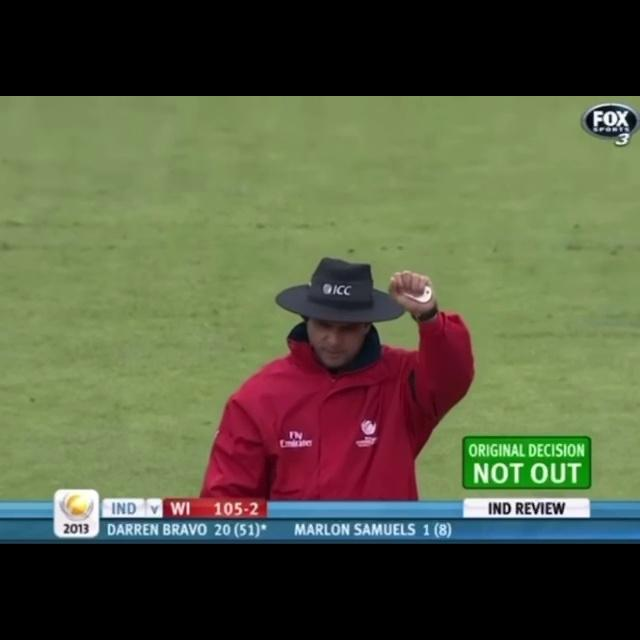umpire: (116, 214, 574, 435)
